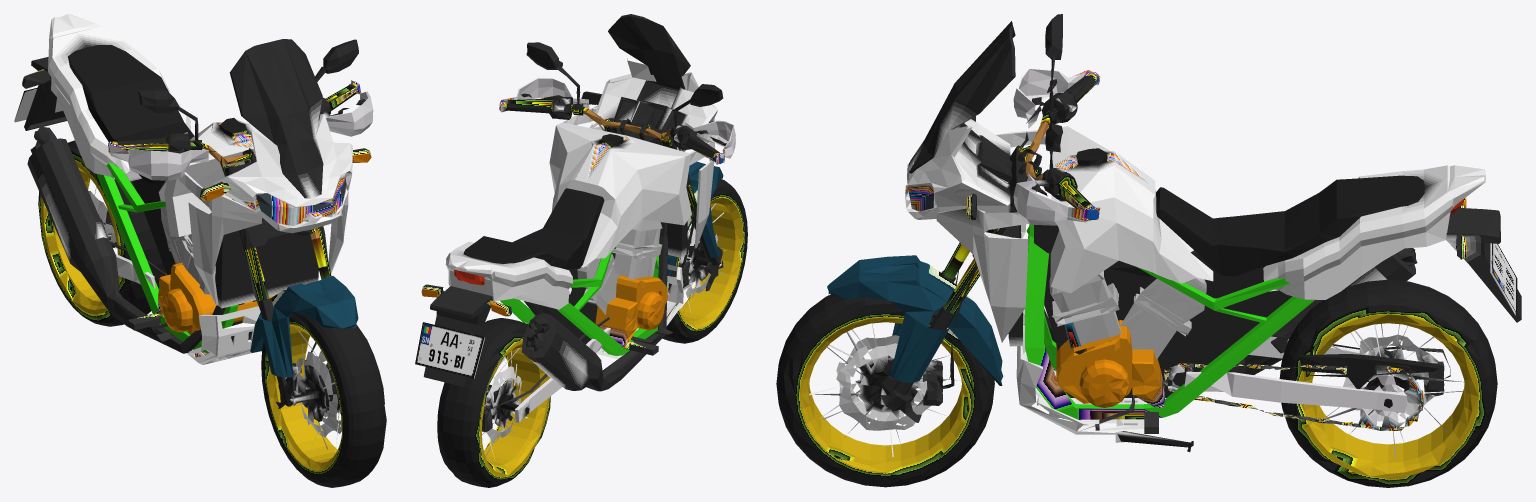
Rendered from okada_motorbike.glb.
The picture shows the model from 3 angles, left to right: view 1: azimuth 30°, elevation 25°; view 2: azimuth 150°, elevation 25°; view 3: azimuth 270°, elevation 25°; orthographic projection. The views are drawn at different scales.
Visible parts, largest first — view 1: Cadre_Material_0; view 2: Cadre_Material_0, Cadre.001_Material.001_0; view 3: Cadre_Material_0, Cadre.001_Material.001_0.
Part boxes in pixels (box(x1,y1,x2,y2)): Cadre_Material_0: box(14, 14, 386, 487); Cadre_Material_0: box(421, 14, 747, 487); Cadre.001_Material.001_0: box(415, 322, 484, 378); Cadre_Material_0: box(776, 14, 1521, 487); Cadre.001_Material.001_0: box(1492, 243, 1517, 314).
Bounding box in the file's own units: 1.02 × 1.54 × 2.3.
2 materials, 2 textured.
